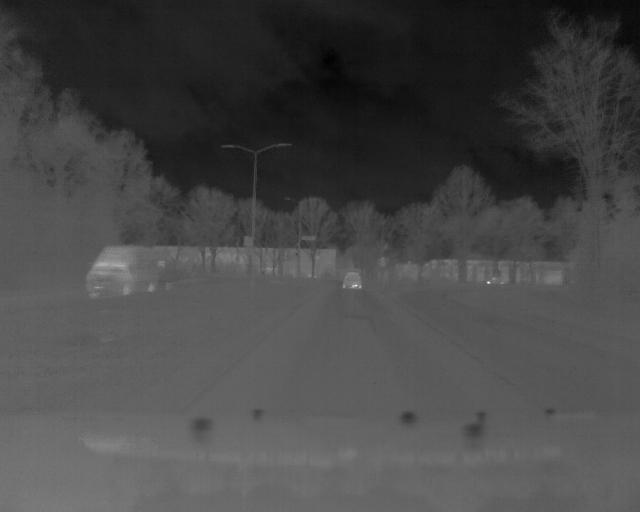car: (81, 242, 167, 296), (341, 270, 363, 289)
